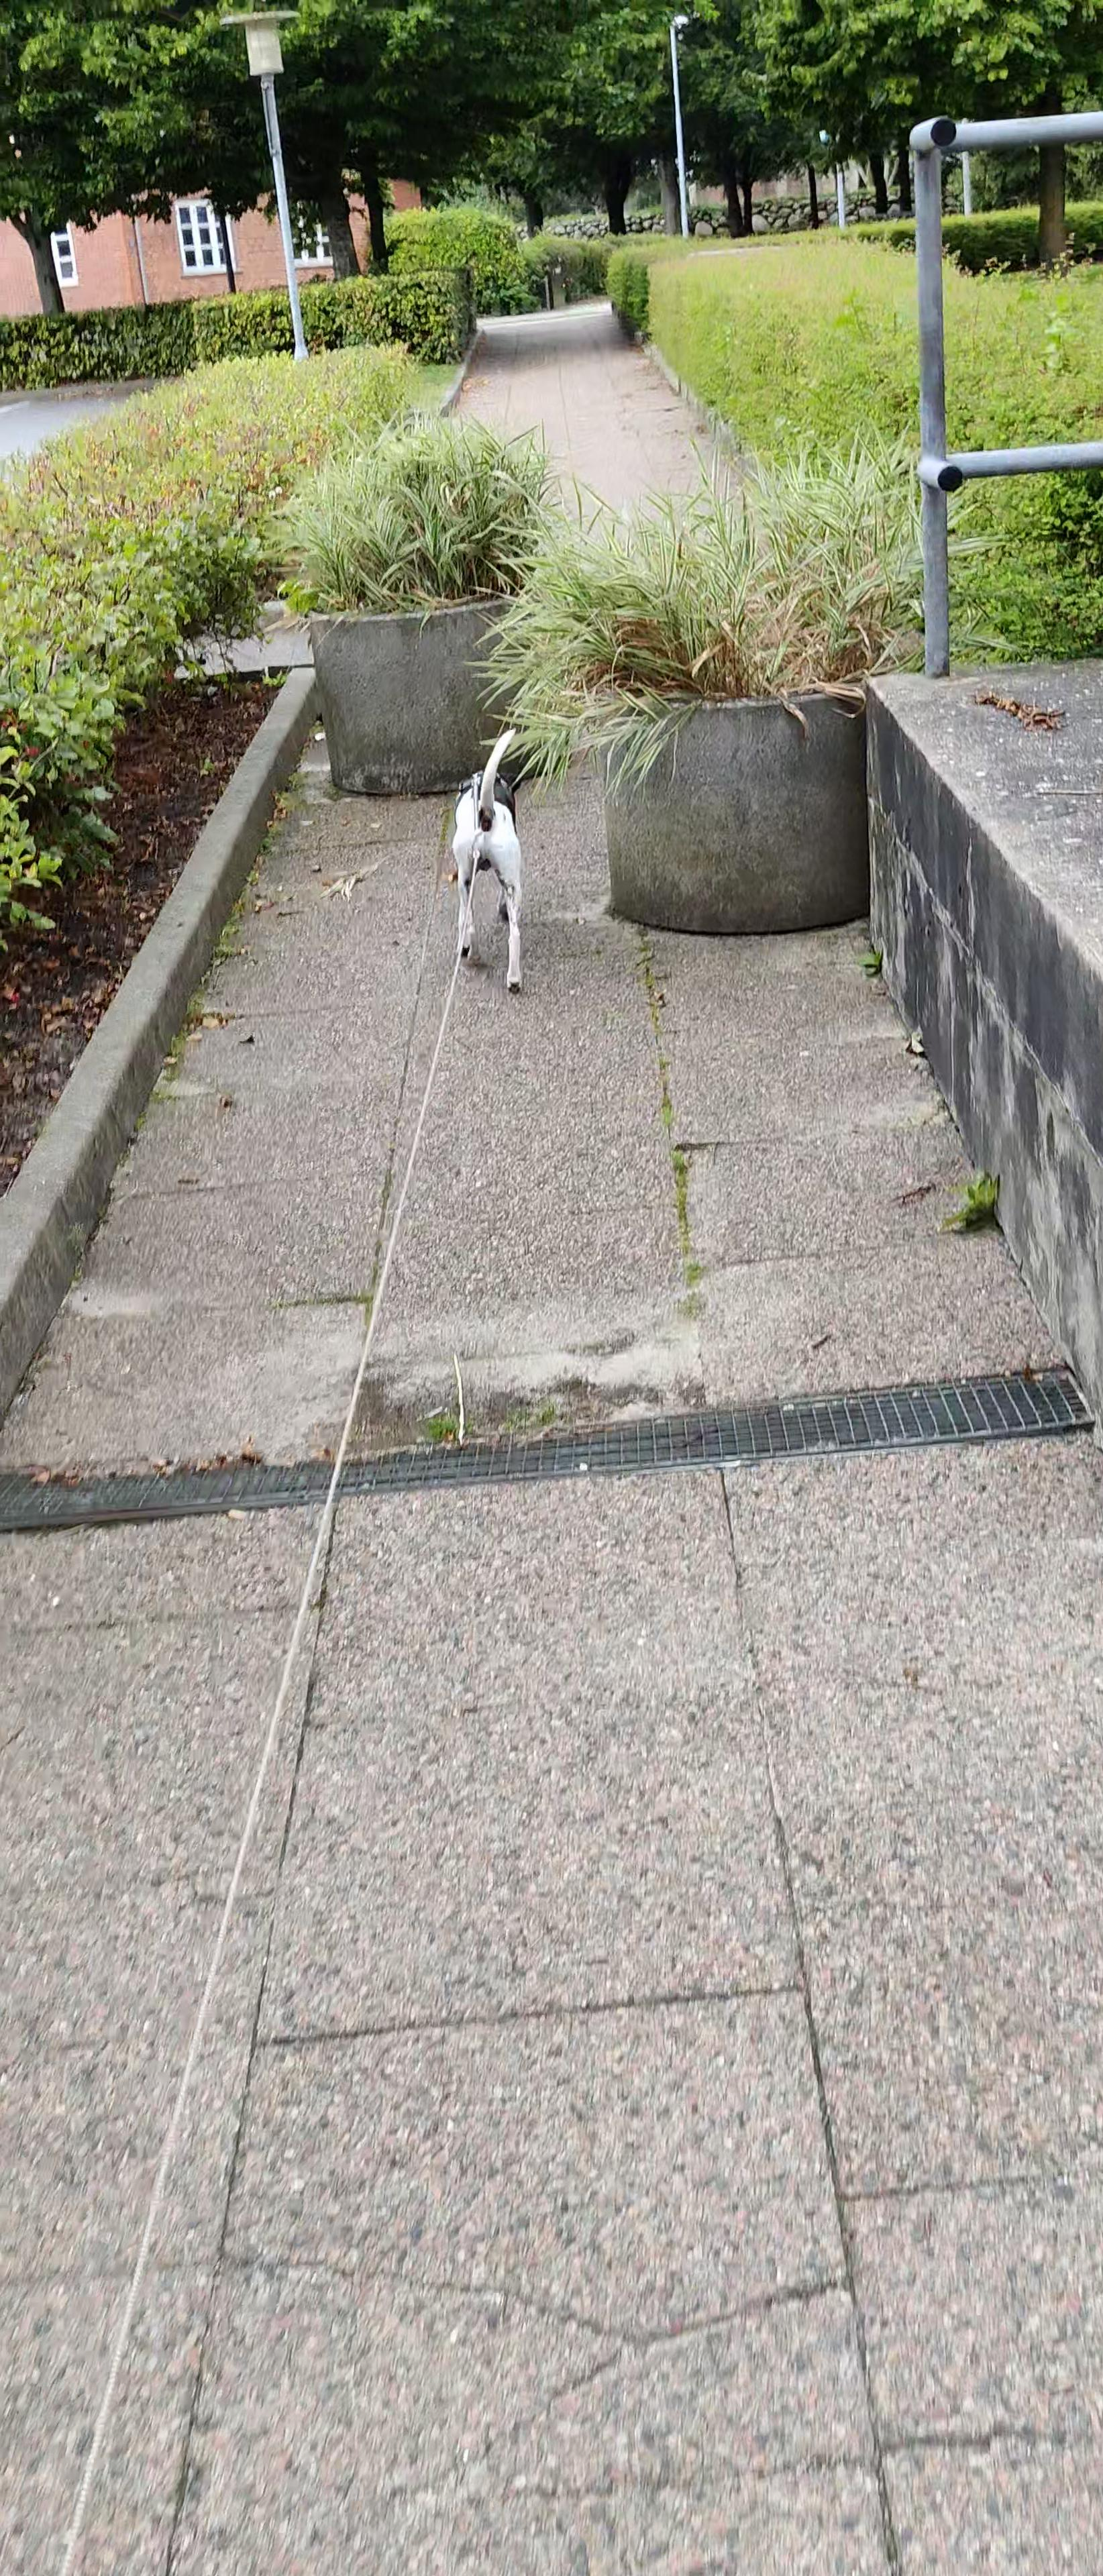Dog: (449, 723, 524, 994)
